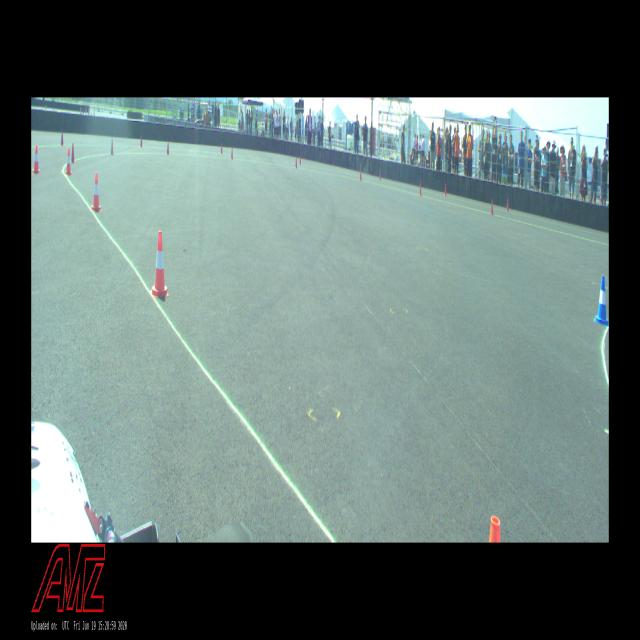blue_cone: (596, 276, 608, 326)
orange_cone: (150, 231, 169, 297), (92, 173, 102, 212), (33, 145, 40, 174), (65, 148, 72, 175)
unknown_cone: (71, 142, 75, 162)
